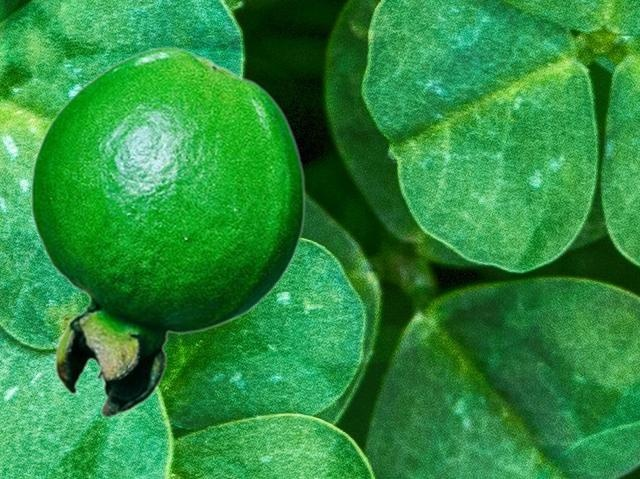guava: (29, 46, 305, 417)
